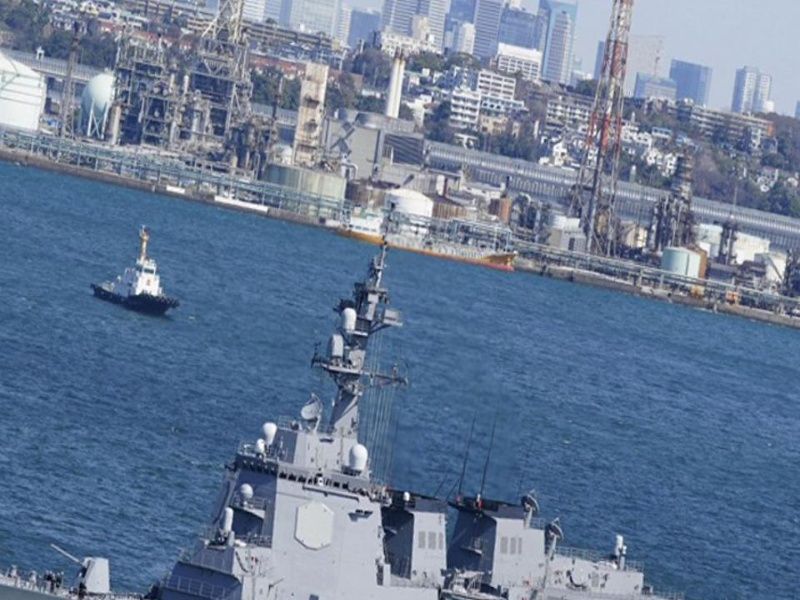boat: (102, 223, 178, 316)
cruise: (66, 405, 678, 600)
